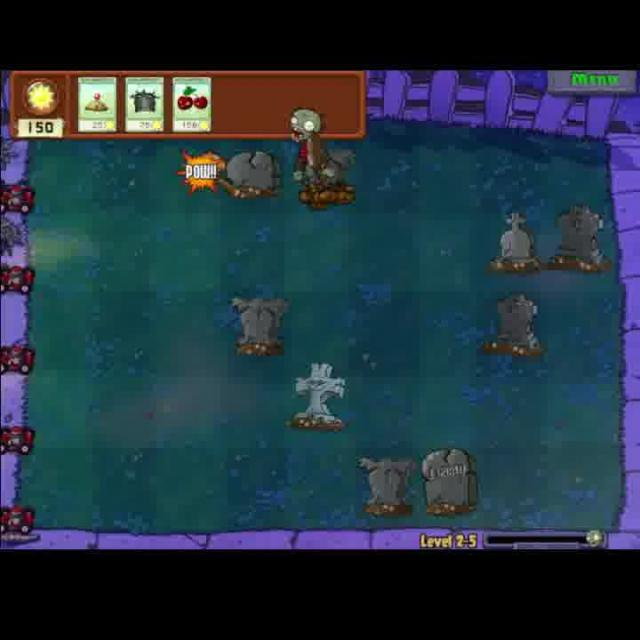coins: (280, 101, 342, 208)
